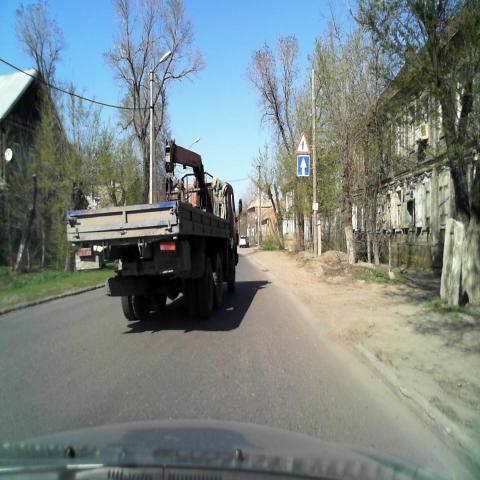5_5: (297, 156, 310, 176)
